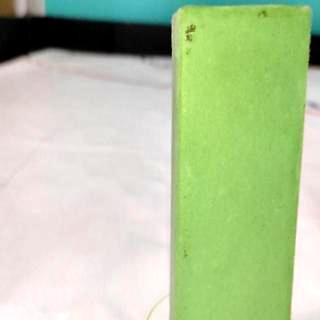greenbox: (170, 4, 312, 320)
